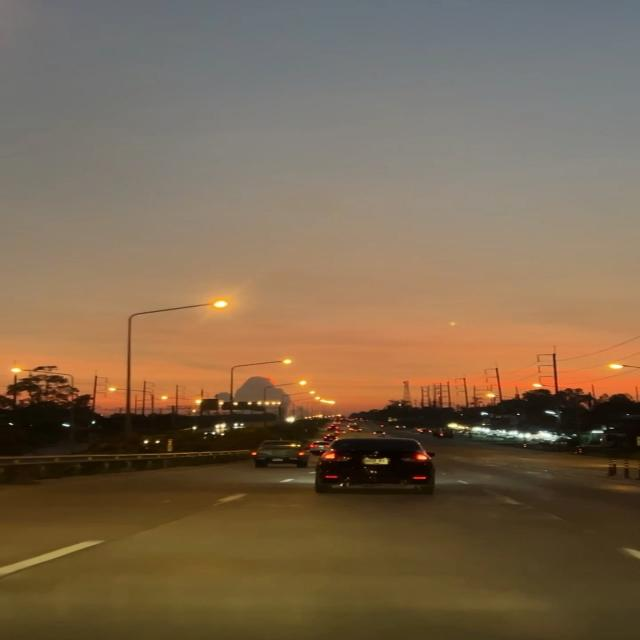Poth-hole: (87, 491, 514, 624)
